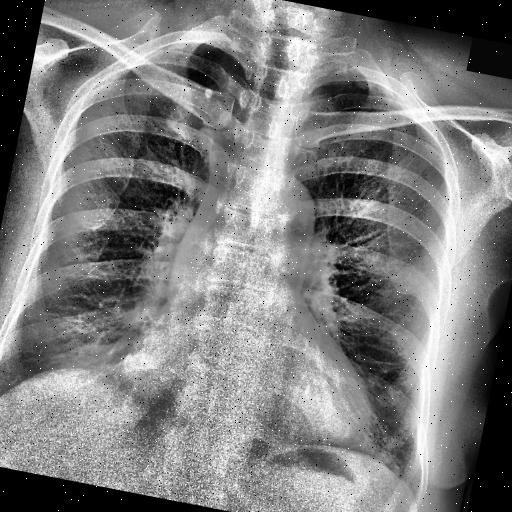0- Aortic enlargement: (242, 166, 324, 258)
3- Cardiomegaly: (108, 319, 386, 455), (112, 317, 382, 453), (110, 333, 382, 457)
8- Nodule-Mass: (204, 90, 212, 102)
9- Other lesion: (204, 90, 212, 102)
